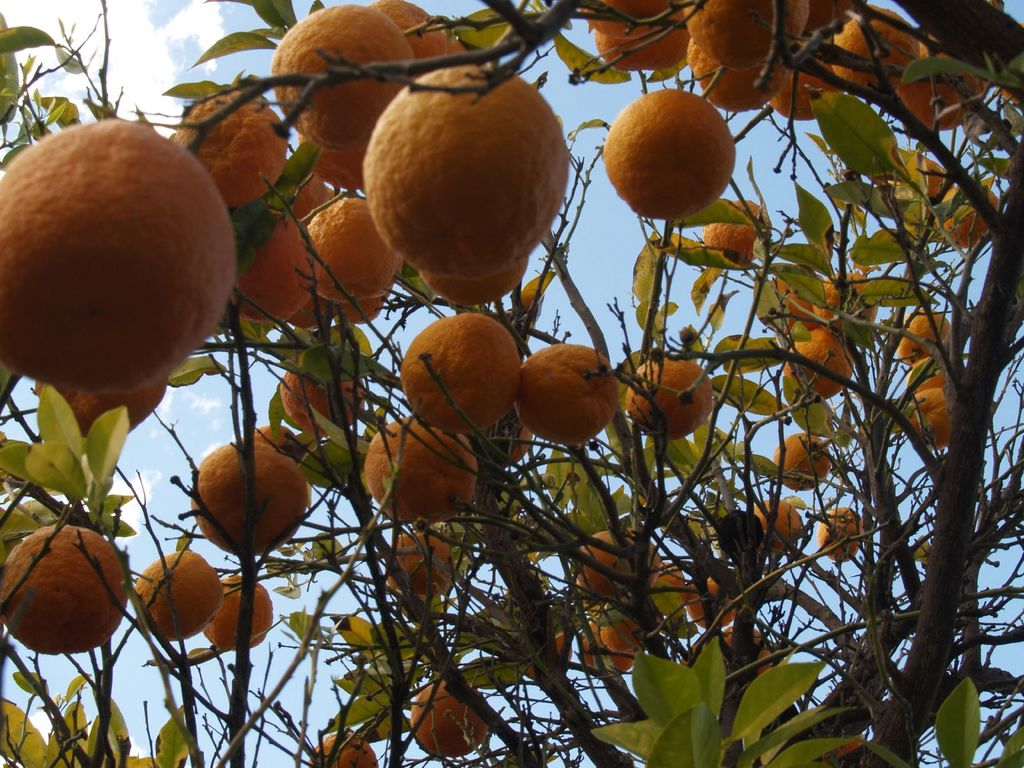Ripe: (0, 1, 577, 436), (586, 0, 991, 132), (599, 87, 739, 219), (0, 527, 128, 653), (190, 429, 313, 556), (401, 313, 517, 432), (358, 416, 481, 520), (518, 344, 619, 443), (133, 550, 221, 644), (627, 356, 718, 436), (202, 573, 276, 653), (784, 326, 857, 397), (412, 682, 486, 752), (776, 431, 829, 490), (898, 309, 951, 366), (908, 388, 956, 445), (755, 497, 809, 543), (817, 510, 865, 557), (320, 732, 380, 767), (907, 356, 947, 392)
